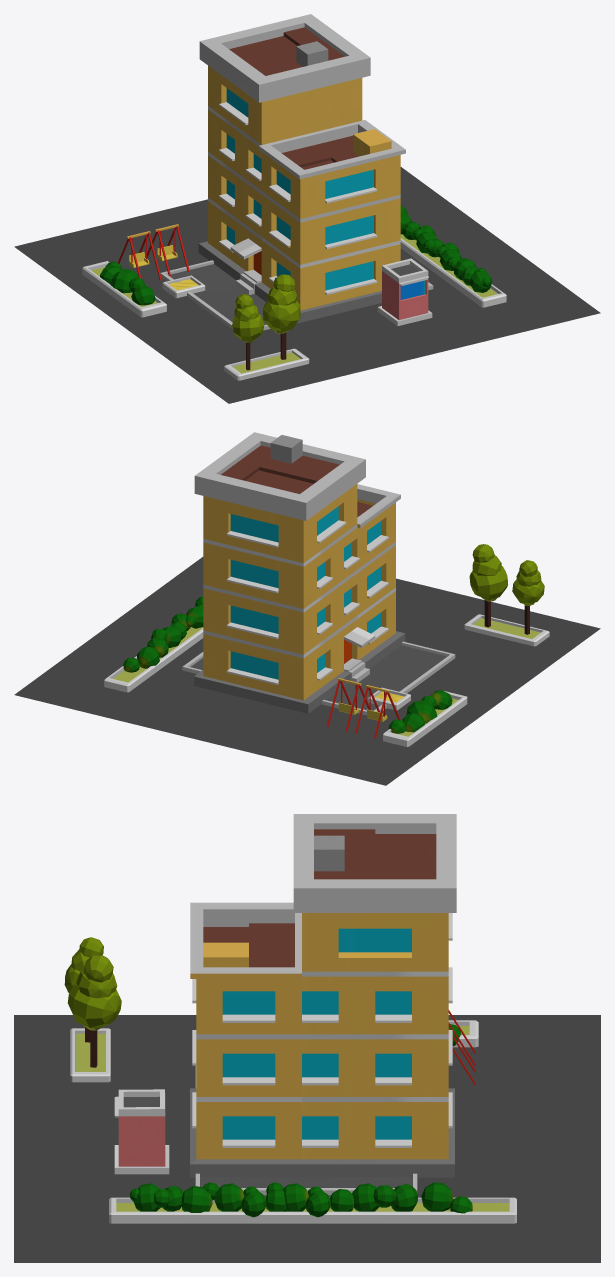
File: citybuilding1.gltf
3 renders of one model, top to bottom at view 1: azimuth 30°, elevation 25°; view 2: azimuth 150°, elevation 25°; view 3: azimuth 270°, elevation 25°, orthographic. The views are drawn at different scales.
Parts seen in each view (by area): view 1: House_15.001, Plane.001, Muff_2_5.001, Floor_4_14.001, Bushes_3_20.001, Tree_3_1_27.001, Bed_21.001, Bed_2_28.001, Tree_3_32_2.001, Bushes_21.001, Bed_2_29.001, Bench_2_9.001 (+2 smaller); view 2: House_15.001, Plane.001, Floor_4_14.001, Bushes_3_20.001, Tree_3_1_27.001, Bed_21.001, Bed_2_28.001, Bushes_21.001, Tree_3_32_2.001, Bed_2_29.001, Bench_3_7.001, Bench_2_9.001 (+1 smaller); view 3: House_15.001, Plane.001, Bushes_3_20.001, Bed_21.001, Muff_2_5.001, Tree_3_1_27.001, Floor_4_14.001, Bed_2_28.001, Tree_3_32_2.001.
Part boxes in pixels (x1=…): House_15.001: x1=198, y1=14, x2=405, y2=323; Plane.001: x1=14, y1=167, x2=600, y2=403; Muff_2_5.001: x1=377, y1=258, x2=432, y2=325; Floor_4_14.001: x1=160, y1=260, x2=433, y2=330; Bushes_3_20.001: x1=400, y1=205, x2=492, y2=292; Tree_3_1_27.001: x1=263, y1=274, x2=300, y2=359; Bed_21.001: x1=400, y1=234, x2=506, y2=307; Bed_2_28.001: x1=224, y1=348, x2=309, y2=380; Tree_3_32_2.001: x1=232, y1=294, x2=264, y2=370; Bushes_21.001: x1=100, y1=261, x2=155, y2=305; Bed_2_29.001: x1=82, y1=261, x2=166, y2=317; Bench_2_9.001: x1=145, y1=224, x2=189, y2=276; House_15.001: x1=194, y1=432, x2=405, y2=713; Plane.001: x1=14, y1=557, x2=600, y2=785; Floor_4_14.001: x1=182, y1=641, x2=455, y2=715; Bushes_3_20.001: x1=123, y1=596, x2=203, y2=672; Tree_3_1_27.001: x1=469, y1=544, x2=507, y2=627; Bed_21.001: x1=104, y1=627, x2=203, y2=692; Bed_2_28.001: x1=464, y1=614, x2=549, y2=646; Bushes_21.001: x1=388, y1=690, x2=452, y2=733; Tree_3_32_2.001: x1=512, y1=560, x2=544, y2=634; Bed_2_29.001: x1=383, y1=691, x2=467, y2=746; Bench_3_7.001: x1=355, y1=685, x2=400, y2=738; Bench_2_9.001: x1=326, y1=678, x2=369, y2=731; House_15.001: x1=190, y1=814, x2=456, y2=1177; Plane.001: x1=14, y1=1015, x2=600, y2=1262; Bushes_3_20.001: x1=130, y1=1182, x2=472, y2=1217; Bed_21.001: x1=109, y1=1197, x2=516, y2=1223; Muff_2_5.001: x1=114, y1=1089, x2=169, y2=1174; Tree_3_1_27.001: x1=67, y1=955, x2=121, y2=1067; Floor_4_14.001: x1=195, y1=1066, x2=417, y2=1195; Bed_2_28.001: x1=70, y1=1028, x2=110, y2=1082; Tree_3_32_2.001: x1=64, y1=937, x2=103, y2=1042.
Size of the model in its own units: 20 by 12.15 by 20.
2 materials, 1 textured.
